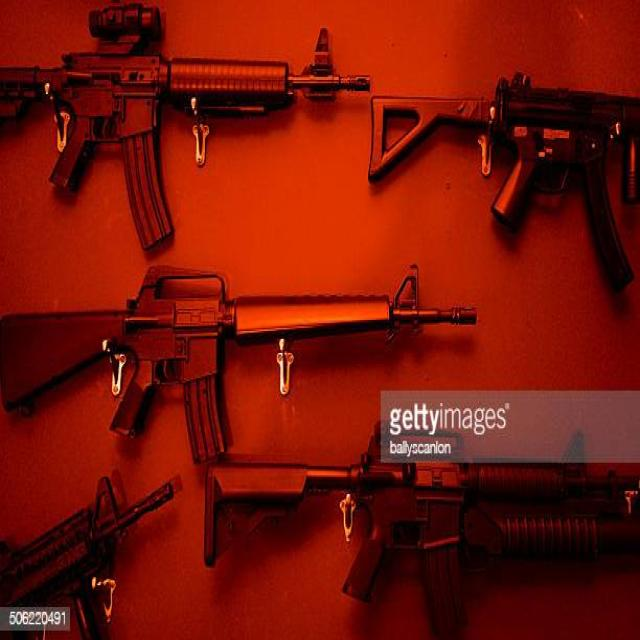Rifle: (207, 391, 640, 640), (0, 265, 478, 464), (0, 5, 355, 251)
SMG: (368, 72, 640, 293)
